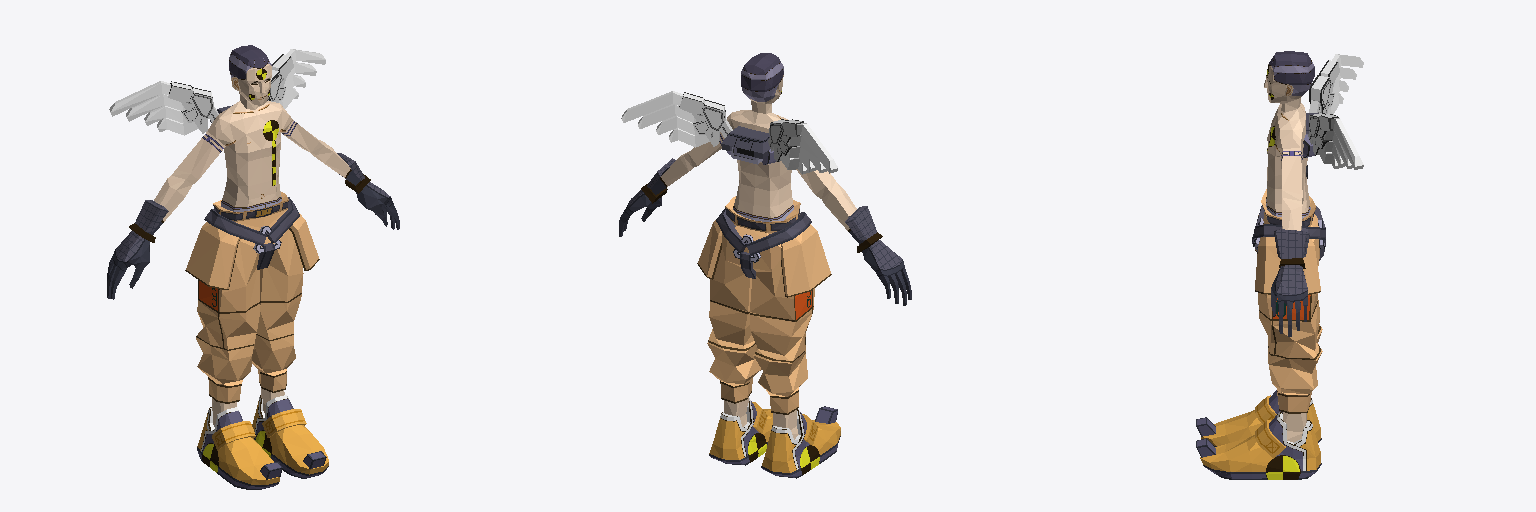
3 renders of one model, left to right at view 1: azimuth 30°, elevation 25°; view 2: azimuth 150°, elevation 25°; view 3: azimuth 270°, elevation 25°, orthographic.
Visible parts, largest first — view 1: SubMesh_0_Mesh_0; view 2: SubMesh_0_Mesh_0; view 3: SubMesh_0_Mesh_0.
Boxes of the visible parts, x1=… form: SubMesh_0_Mesh_0: x1=107, y1=45, x2=399, y2=489; SubMesh_0_Mesh_0: x1=619, y1=53, x2=911, y2=478; SubMesh_0_Mesh_0: x1=1196, y1=51, x2=1363, y2=479.
Bounding box in the file's own units: 1.19 × 1.6 × 0.6012.
Materials: 1 (1 with a texture image).